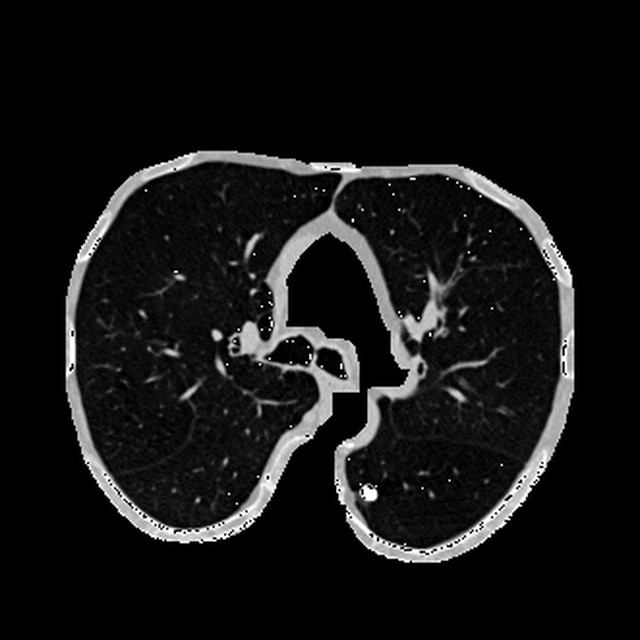PN: (358, 483, 377, 503)
